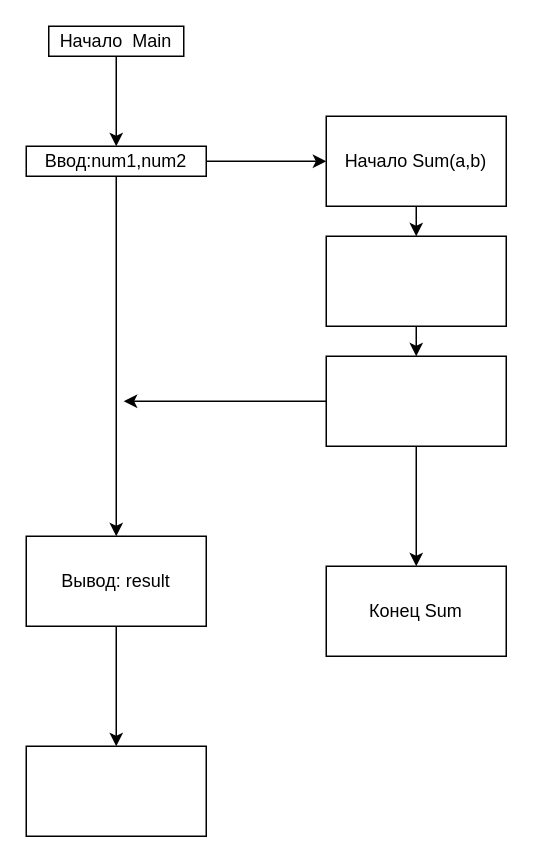
Image size: 533x863. Some labels were removed from this diagram. The centre of each missing label's shape, as x and y in pixels:
"result = a + b" goes at (415,280).
"return result" goes at (415,400).
"Конец Main" goes at (115,790).
